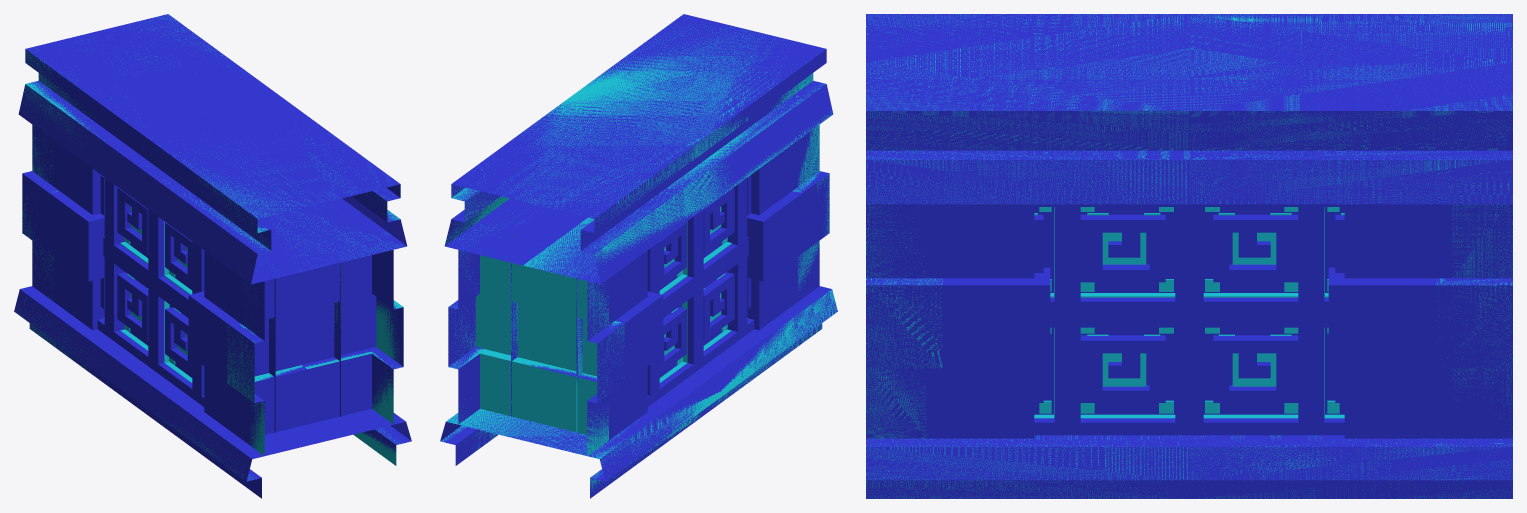
File: ParedSimple.fbx
3 views of the same model, side by side, from view 1: azimuth 30°, elevation 25°; view 2: azimuth 150°, elevation 25°; view 3: azimuth 270°, elevation 25° (orthographic). The views are drawn at different scales.
Parts seen in each view (by area): view 1: SimpleWall_T1_VAS1_6x4, SimpleWall_T1_VBS1_6x4, SimpleWall_T1_VAS2_6x4, SimpleWall_T1_VBS2_6x4, SimpleWall_T1_VDS1_6x4, SimpleWall_T1_VDS2_6x4, SimpleWall_T1_VCS1_6x4; view 2: SimpleWall_T1_VAS1_6x4, SimpleWall_T1_VBS1_6x4, SimpleWall_T1_VDS1_6x4, SimpleWall_T1_VDS2_6x4, SimpleWall_T1_VBS2_6x4, SimpleWall_T1_VAS2_6x4, SimpleWall_T1_VCS1_6x4; view 3: SimpleWall_T1_VAS2_6x4, SimpleWall_T1_VBS2_6x4, SimpleWall_T1_VDS2_6x4, SimpleWall_T1_VAS1_6x4, SimpleWall_T1_VBS1_6x4, SimpleWall_T1_VDS1_6x4, SimpleWall_T1_VCS2_6x4.
Boxes of the visible parts, x1,y1,x2,y2 form: SimpleWall_T1_VAS1_6x4: (14,31,401,498); SimpleWall_T1_VBS1_6x4: (14,32,402,479); SimpleWall_T1_VAS2_6x4: (97,14,411,444); SimpleWall_T1_VBS2_6x4: (97,14,411,453); SimpleWall_T1_VDS1_6x4: (15,48,400,480); SimpleWall_T1_VDS2_6x4: (122,15,403,465); SimpleWall_T1_VCS1_6x4: (120,206,192,381); SimpleWall_T1_VAS1_6x4: (523,31,837,490); SimpleWall_T1_VBS1_6x4: (449,33,837,498); SimpleWall_T1_VDS1_6x4: (466,33,836,491); SimpleWall_T1_VDS2_6x4: (440,18,750,455); SimpleWall_T1_VBS2_6x4: (440,14,753,465); SimpleWall_T1_VAS2_6x4: (440,14,754,465); SimpleWall_T1_VCS1_6x4: (664,206,731,364); SimpleWall_T1_VAS2_6x4: (866,62,1512,498); SimpleWall_T1_VBS2_6x4: (866,62,1512,498); SimpleWall_T1_VDS2_6x4: (866,62,1512,498); SimpleWall_T1_VAS1_6x4: (866,14,1512,283); SimpleWall_T1_VBS1_6x4: (866,14,1512,283); SimpleWall_T1_VDS1_6x4: (866,14,1512,297); SimpleWall_T1_VCS2_6x4: (1080,207,1298,413).
Bounding box in the file's own units: 246 × 400 × 600.
